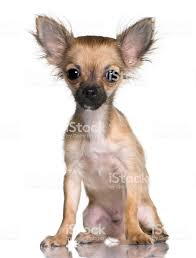chihuahua: (14, 5, 193, 258)
